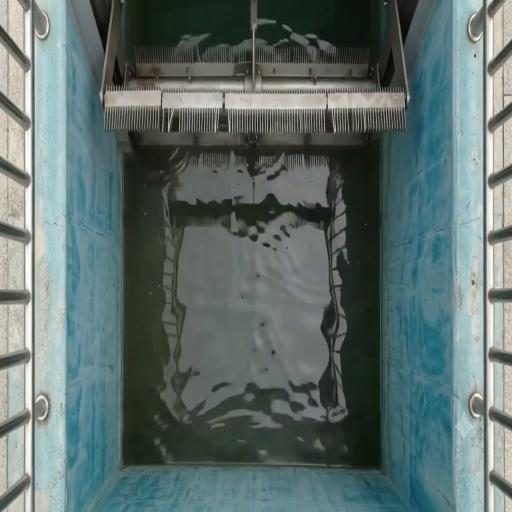rake_broken: (317, 96, 373, 147), (146, 88, 199, 140), (207, 90, 254, 144)
